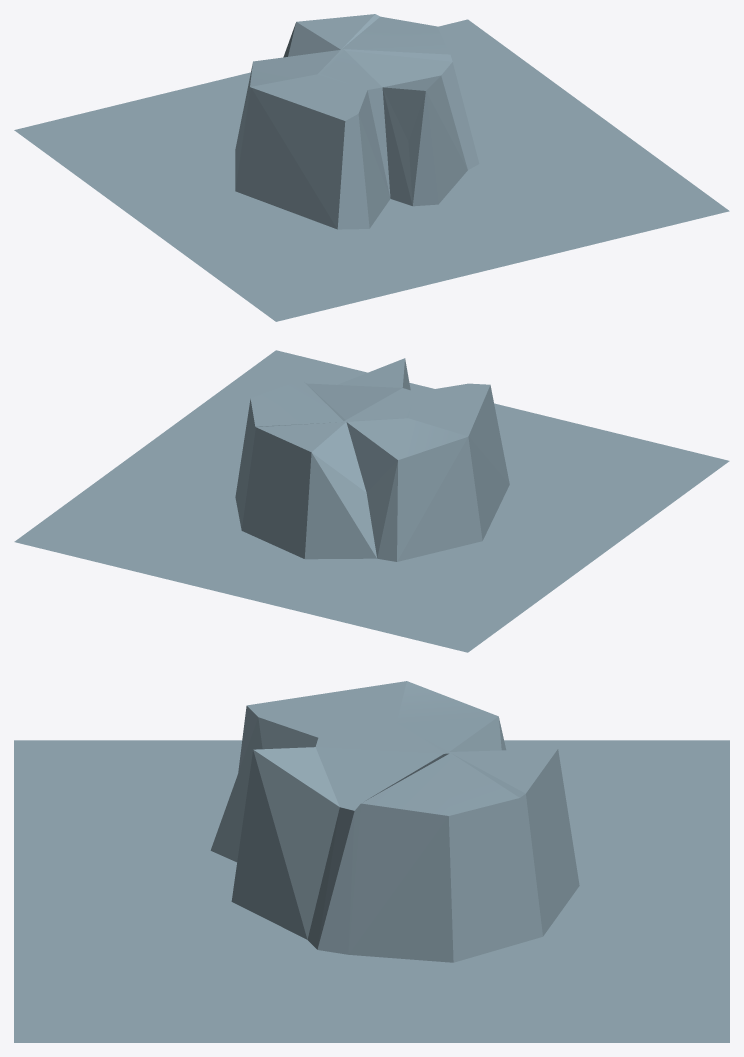
Rendered from Tile 55_Combined.fbx.
3 views of the same model, one above another, from view 1: azimuth 30°, elevation 25°; view 2: azimuth 150°, elevation 25°; view 3: azimuth 270°, elevation 25° (orthographic). The views are drawn at different scales.
Visible parts, largest first — view 1: MeshBaker_mesh_mesh; view 2: MeshBaker_mesh_mesh; view 3: MeshBaker_mesh_mesh.
Boxes of the visible parts, x1=… form: MeshBaker_mesh_mesh: x1=14, y1=14, x2=729, y2=321; MeshBaker_mesh_mesh: x1=14, y1=350, x2=729, y2=652; MeshBaker_mesh_mesh: x1=14, y1=681, x2=729, y2=1042.
Size of the model in its own units: 3000 by 689 by 3000.
